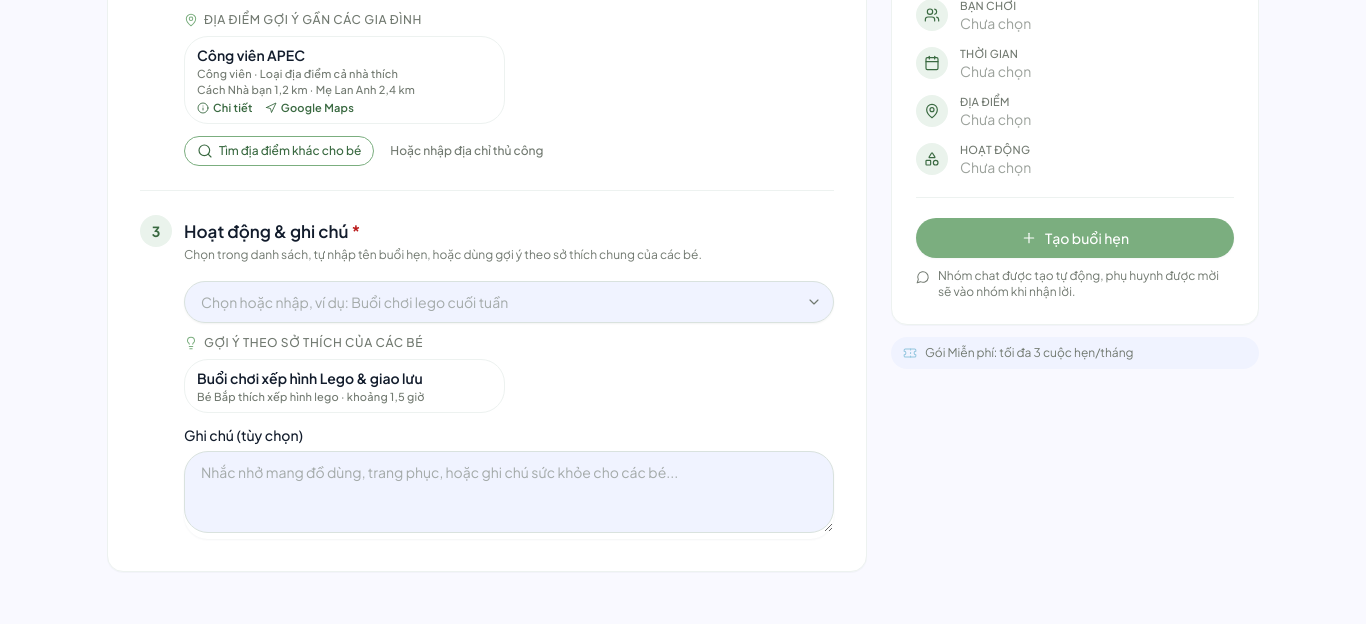
Test case: CreatePlaydatePage Component › fills the activity from a suggestion with its reason and suggested duration
This screenshot has width=1366, height=624.
(page scrolled)
What coordinates should you click on to do the following:
click the button "Buổi chơi xếp hình Lego & giao lưu"
I would click on:
 (344, 386)
Its box is [184,358,505,412].
(page scrolled)
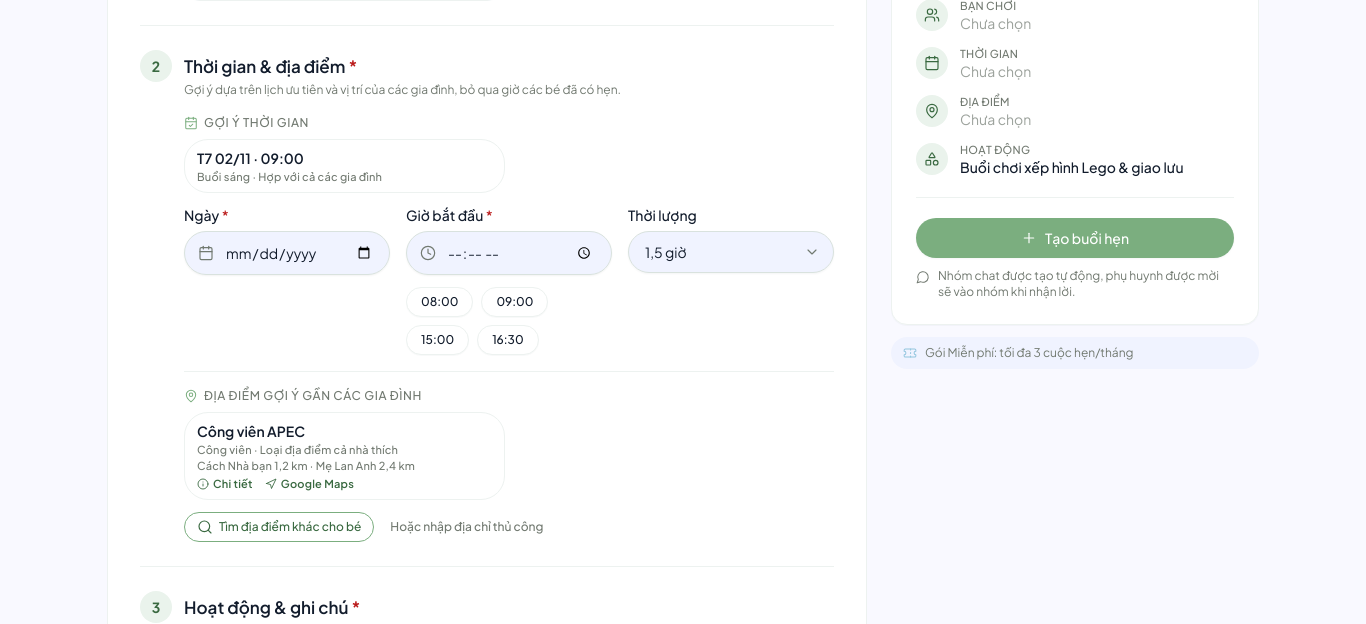
Expected: the dropdown labelled "Thời lượng" shows "1,5 giờ", [628,231,834,273]
